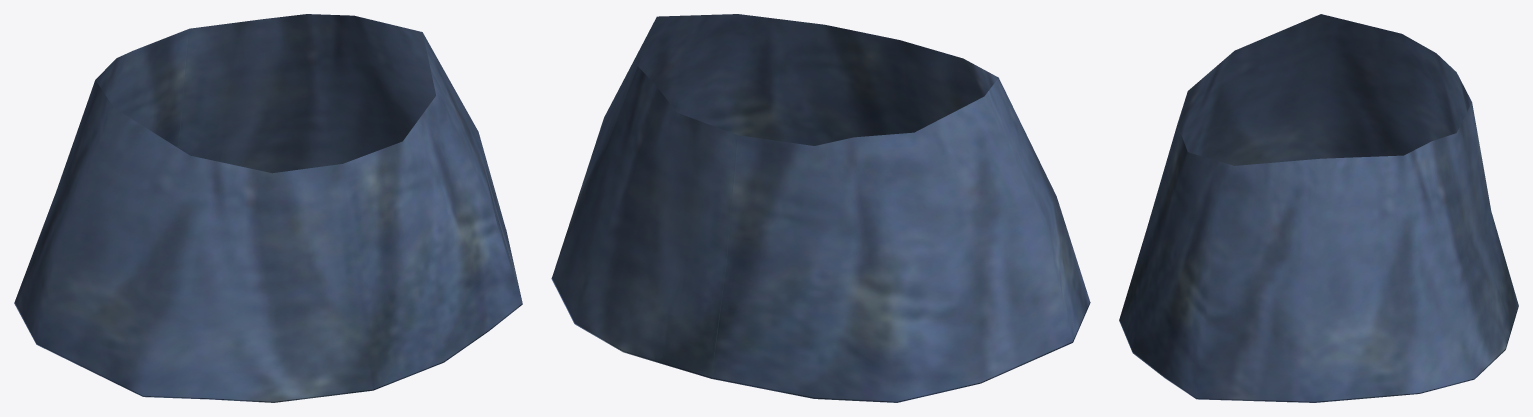
Rendered from AF_M_Trousers_G_01.fbx.
3 views of the same model, side by side, from view 1: azimuth 30°, elevation 25°; view 2: azimuth 150°, elevation 25°; view 3: azimuth 270°, elevation 25° (orthographic). The views are drawn at different scales.
Parts seen in each view (by area): view 1: AF_M_Trousers_G_01; view 2: AF_M_Trousers_G_01; view 3: AF_M_Trousers_G_01.
Part boxes in pixels (box(x1,y1,x2,y2)): AF_M_Trousers_G_01: box(14, 14, 522, 402); AF_M_Trousers_G_01: box(551, 14, 1090, 402); AF_M_Trousers_G_01: box(1119, 14, 1518, 402).
Bounding box in the file's own units: 522 × 259 × 401.
